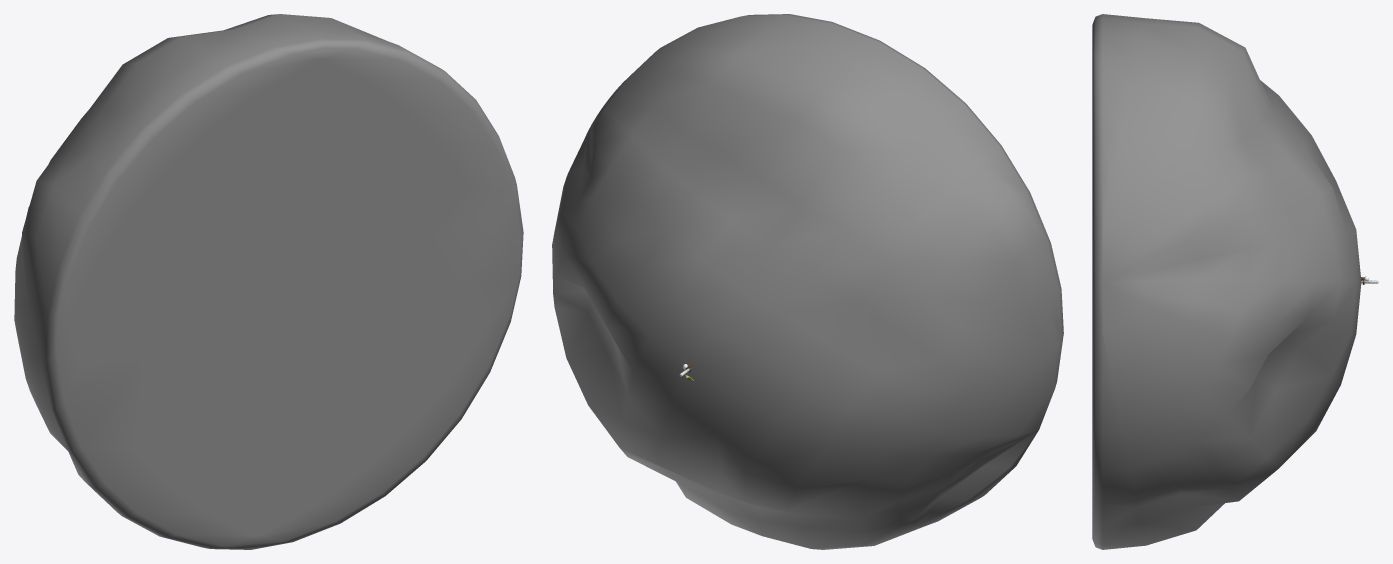
Rendered from item-moon-hat.glb.
The picture shows the model from 3 angles, left to right: view 1: azimuth 30°, elevation 25°; view 2: azimuth 150°, elevation 25°; view 3: azimuth 270°, elevation 25°; orthographic projection. The views are drawn at different scales.
Bounding box in the file's own units: 0.2707 × 0.2702 × 0.1443.
9 materials, 6 textured.
